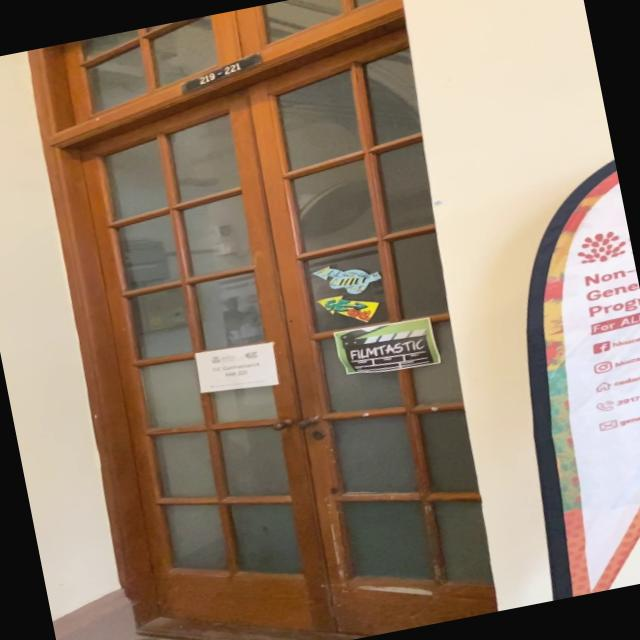room221: (175, 52, 267, 96)
